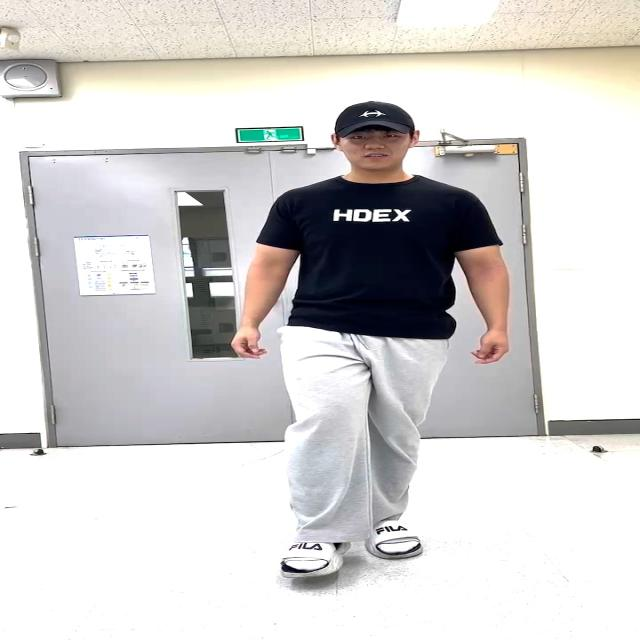leg: (274, 337, 360, 575)
